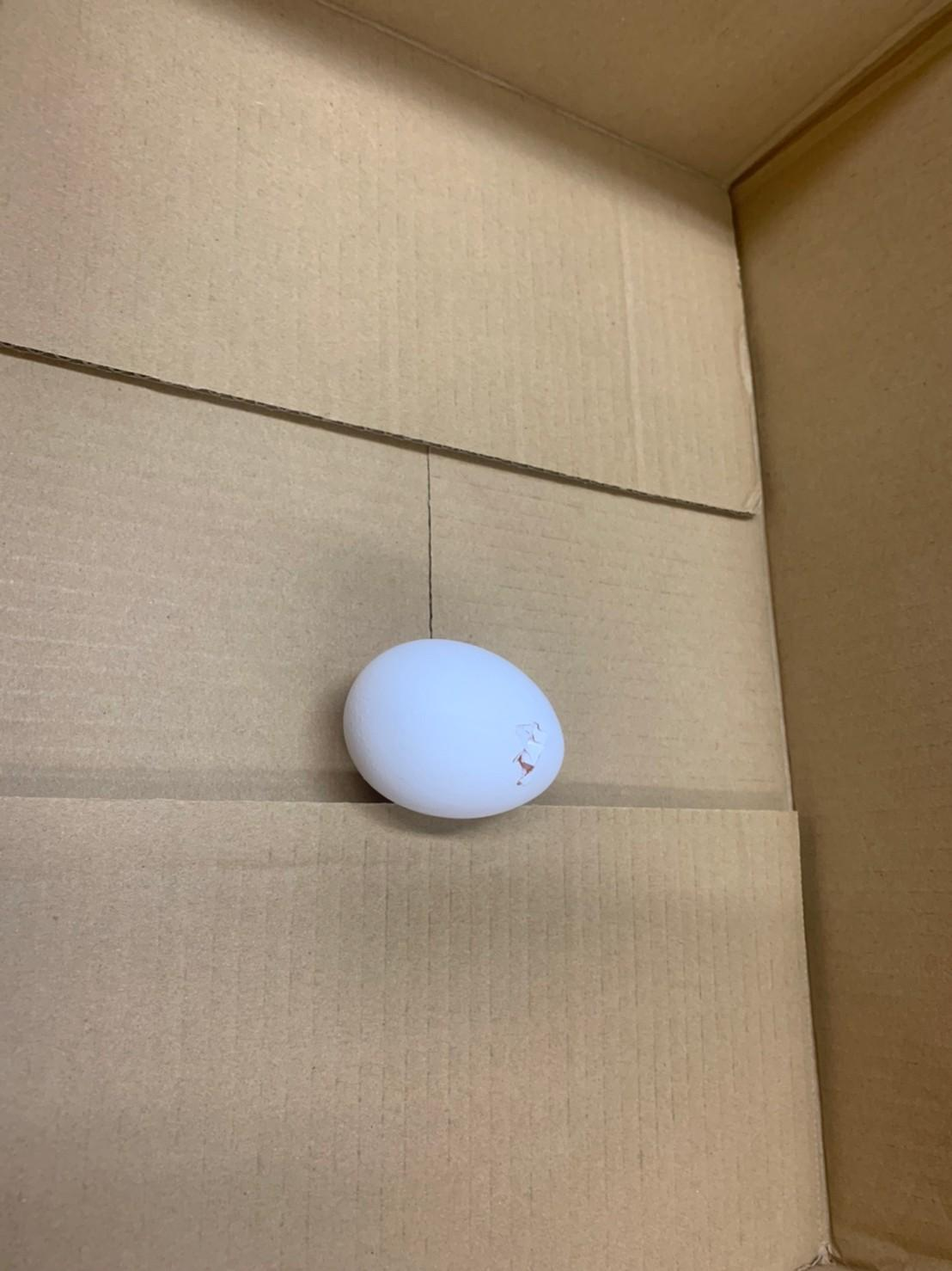egg: (323, 629, 573, 826)
